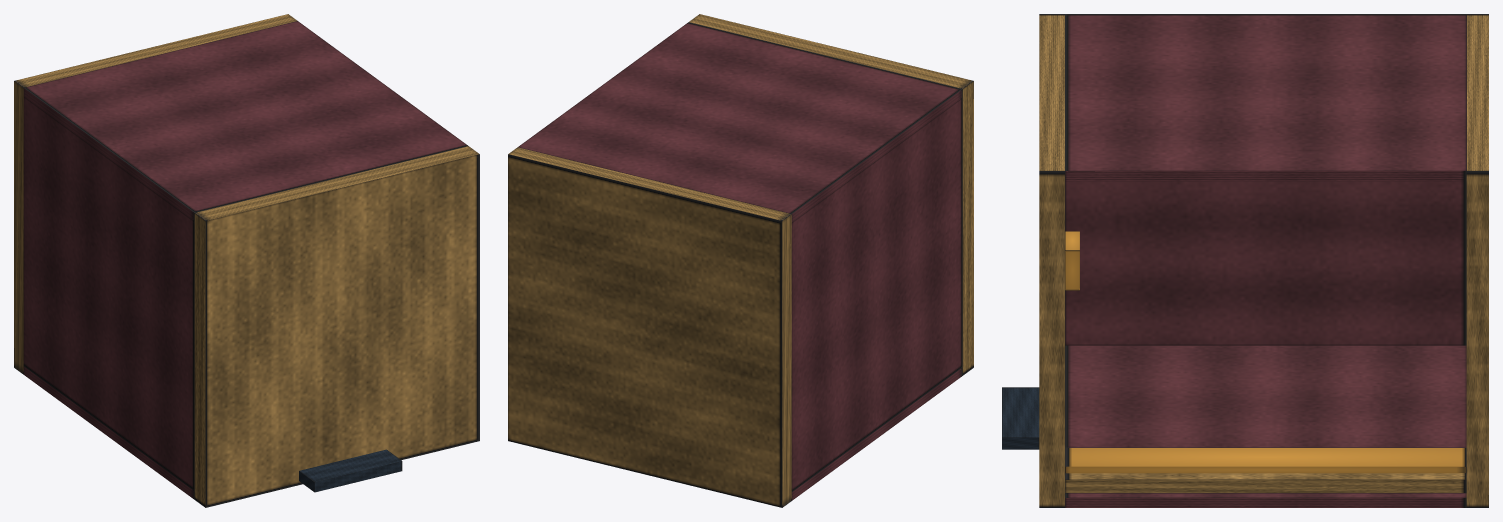
File: skyhotel_service_lift_car.obj
3 views of the same model, side by side, from view 1: azimuth 30°, elevation 25°; view 2: azimuth 150°, elevation 25°; view 3: azimuth 270°, elevation 25° (orthographic). The views are drawn at different scales.
Visible parts, largest first — view 1: skyhotel_service_lift_car; view 2: skyhotel_service_lift_car; view 3: skyhotel_service_lift_car.
Boxes of the visible parts, bbox=[...] form: skyhotel_service_lift_car: bbox=[14, 14, 479, 507]; skyhotel_service_lift_car: bbox=[508, 14, 973, 507]; skyhotel_service_lift_car: bbox=[1002, 14, 1488, 507].
Bounding box in the file's own units: 2 × 2.01 × 2.62.
4 materials, 4 textured.
